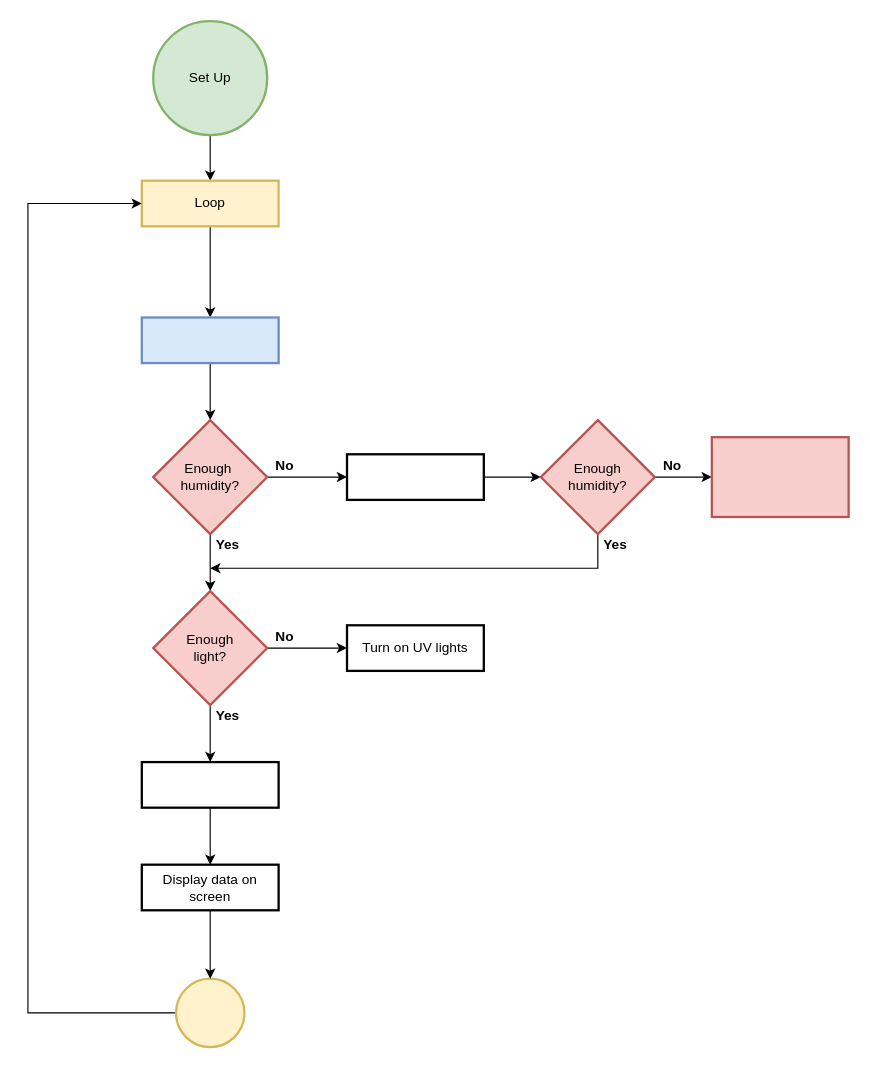
This 870x1067 diagram has some shape labels left out. The box of each missing label's shape, as (x1, y1, x2, y2) in pixels:
Read Sensor Data: (140, 316, 279, 364)
Try to send e-mail if there is internet connection: (710, 435, 849, 518)
Turn off UV lights if they are on: (140, 760, 279, 808)
Turn on water pump: (345, 453, 484, 500)
